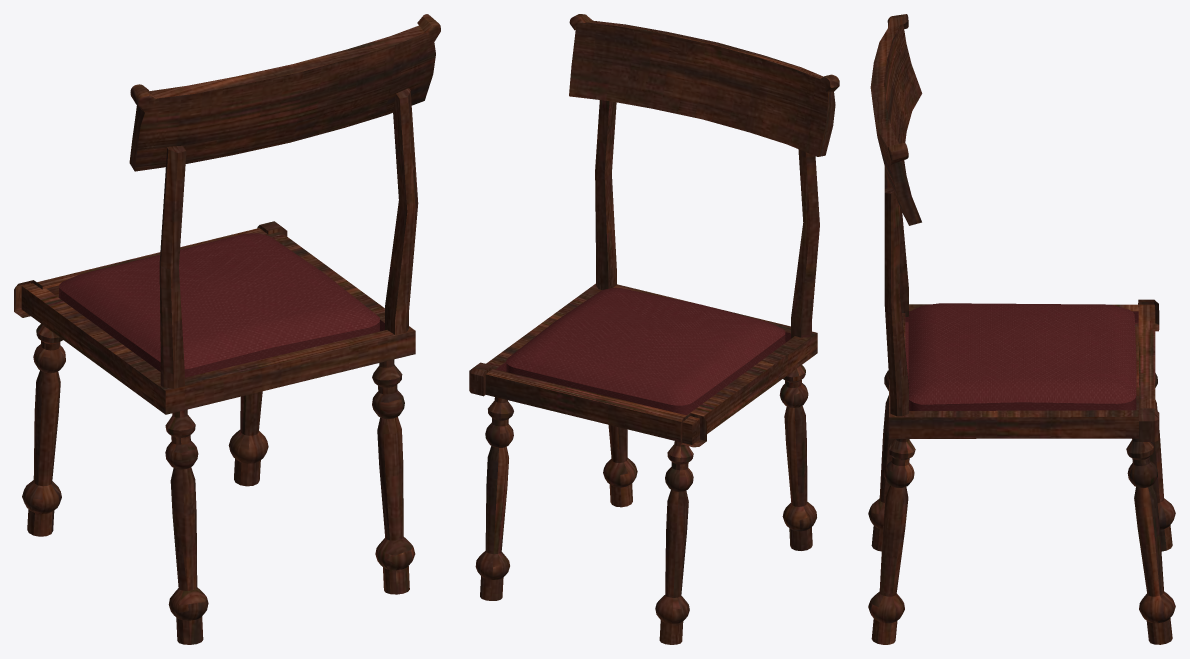
The model's file is stuhl.glb.
3 renders of one model, left to right at view 1: azimuth 30°, elevation 25°; view 2: azimuth 150°, elevation 25°; view 3: azimuth 270°, elevation 25°, orthographic. The views are drawn at different scales.
Parts seen in each view (by area): view 1: Cylinder; view 2: Cylinder; view 3: Cylinder.
Boxes of the visible parts, left/top/right/bottom form: Cylinder: left=14, top=14, right=440, bottom=644; Cylinder: left=469, top=14, right=839, bottom=644; Cylinder: left=868, top=14, right=1175, bottom=644.
Size of the model in its own units: 10.19 by 17.87 by 9.68.
2 materials, 2 textured.
